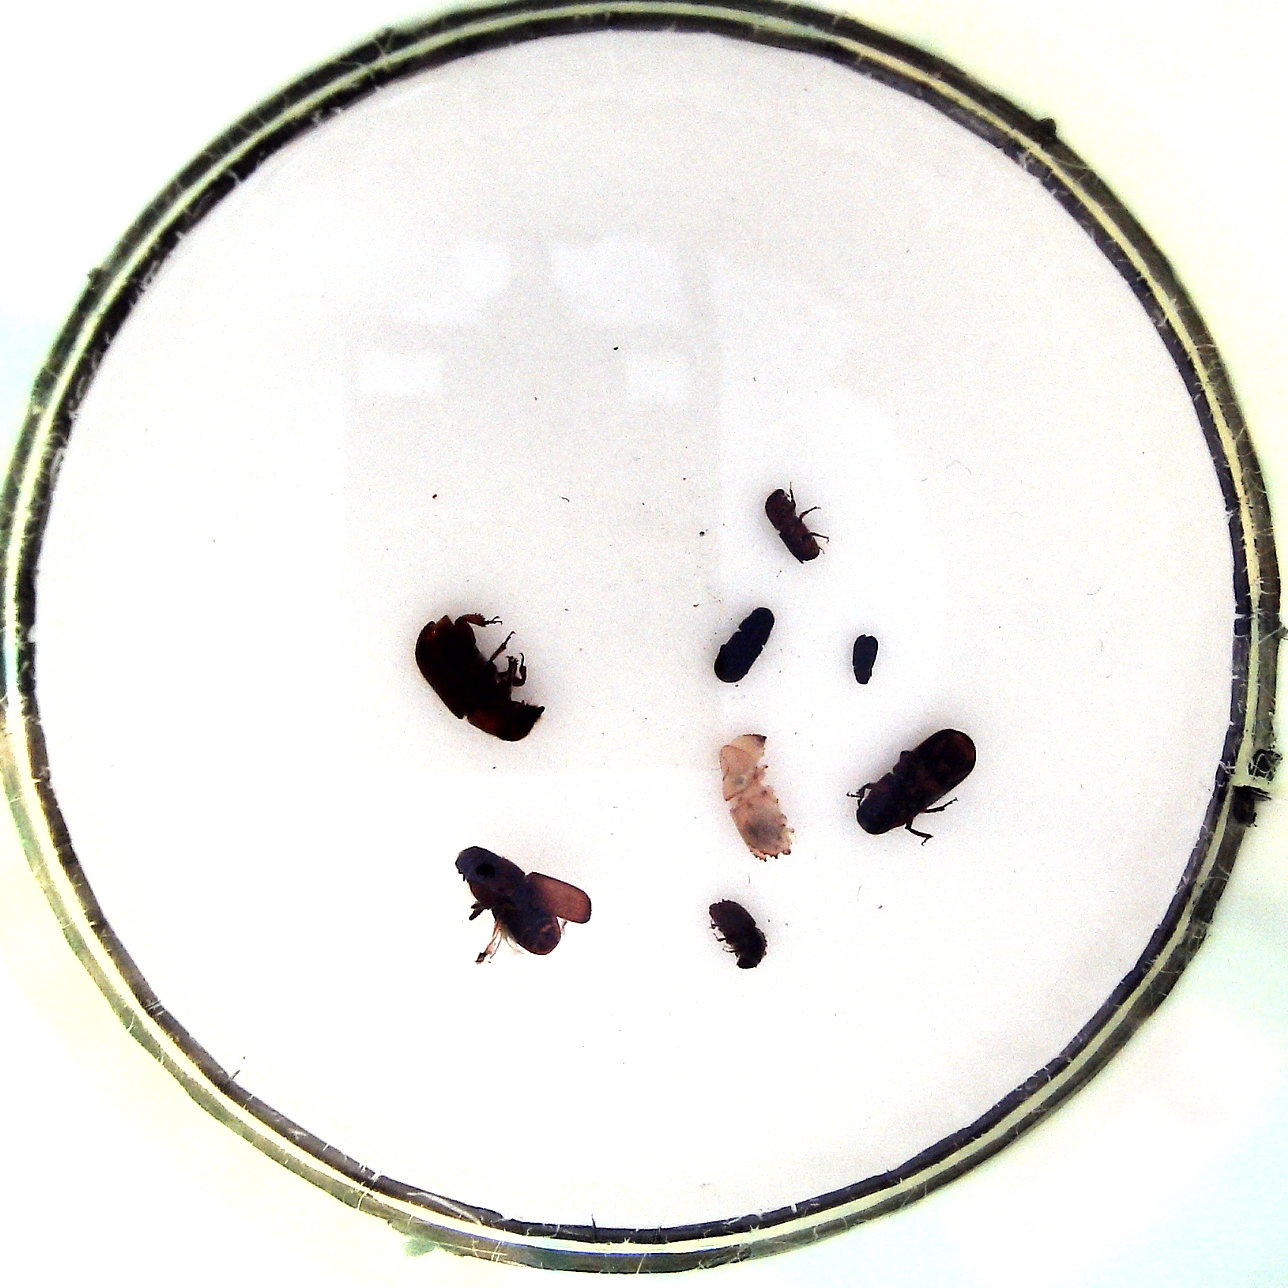Boerner: (712, 725, 795, 863)
Leconte: (410, 609, 544, 745), (451, 842, 597, 961), (848, 725, 979, 845)
Linnaeus: (703, 896, 771, 973)
acuminatus: (761, 484, 828, 563)
armandi: (710, 604, 778, 683)
coleoptera: (848, 632, 880, 686)
